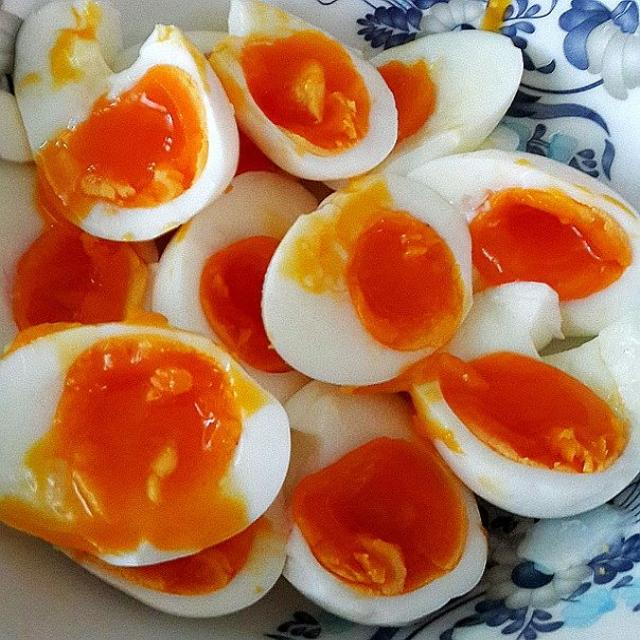egg boiled: (0, 323, 290, 565), (15, 0, 238, 240), (412, 292, 639, 517), (284, 383, 486, 625), (263, 175, 471, 384), (411, 150, 639, 336), (152, 172, 316, 401), (209, 0, 397, 180), (0, 162, 157, 348), (66, 499, 289, 617), (370, 30, 522, 175), (0, 161, 43, 350), (0, 86, 32, 163), (185, 30, 226, 56)
